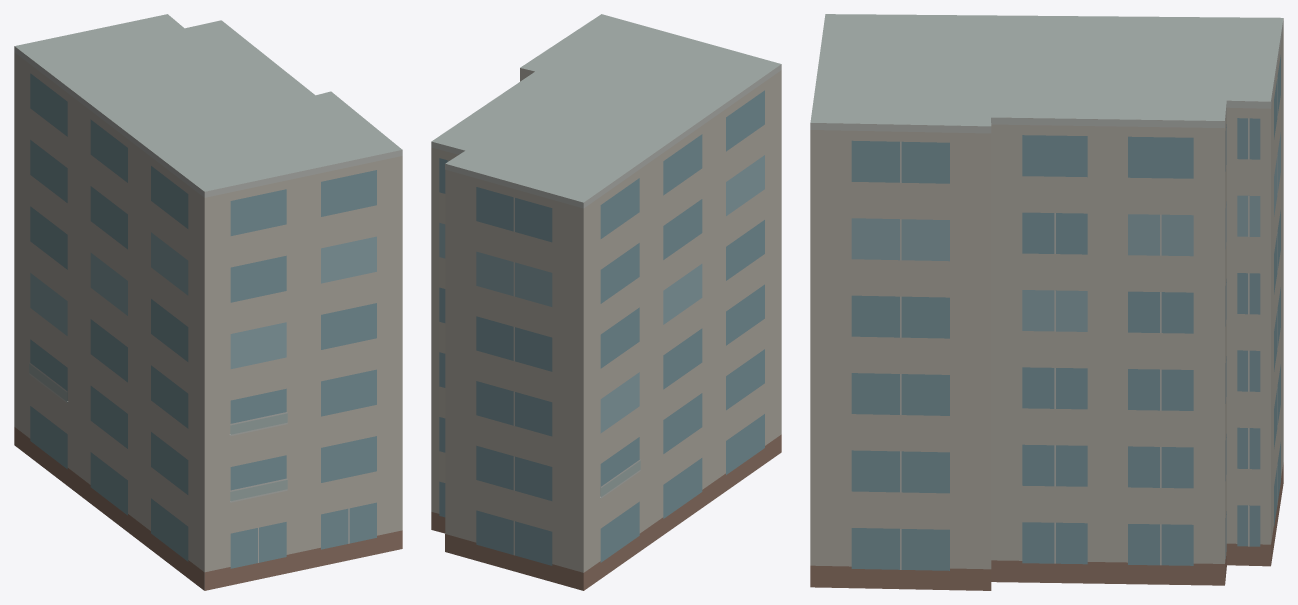
Rendered from survey-upis-32894383.glb.
3 renders of one model, left to right at view 1: azimuth 30°, elevation 25°; view 2: azimuth 150°, elevation 25°; view 3: azimuth 270°, elevation 25°, orthographic. The views are drawn at different scales.
Visible parts, largest first — view 1: survey-upis-32894383.tmp; view 2: survey-upis-32894383.tmp; view 3: survey-upis-32894383.tmp.
Part boxes in pixels (<box>): survey-upis-32894383.tmp: <box>14,14,402,590</box>; survey-upis-32894383.tmp: <box>431,14,781,590</box>; survey-upis-32894383.tmp: <box>810,14,1283,590</box>.
Size of the model in its own units: 8.31 by 16 by 14.78.
